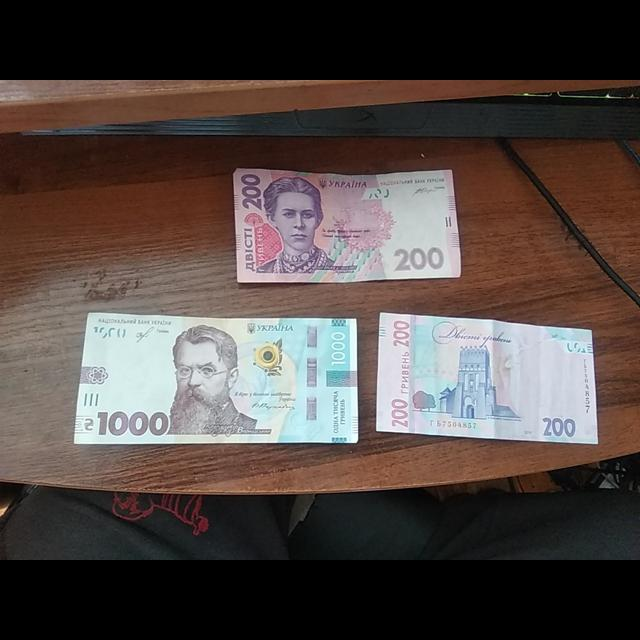1000uah: (74, 314, 358, 444)
200uah: (379, 312, 597, 444), (234, 171, 461, 281)
